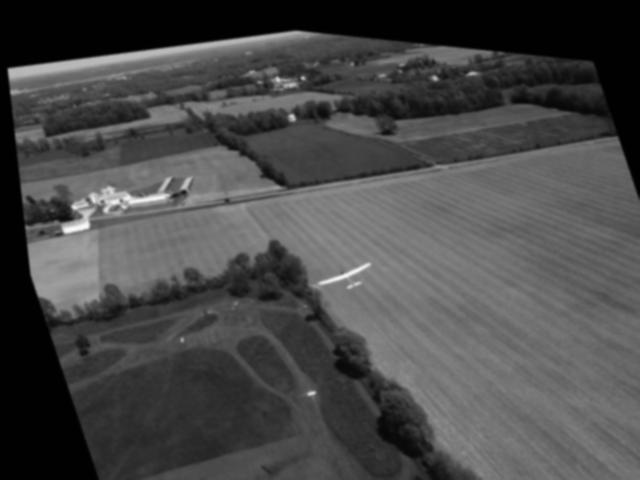hedef: (297, 242, 379, 299)
